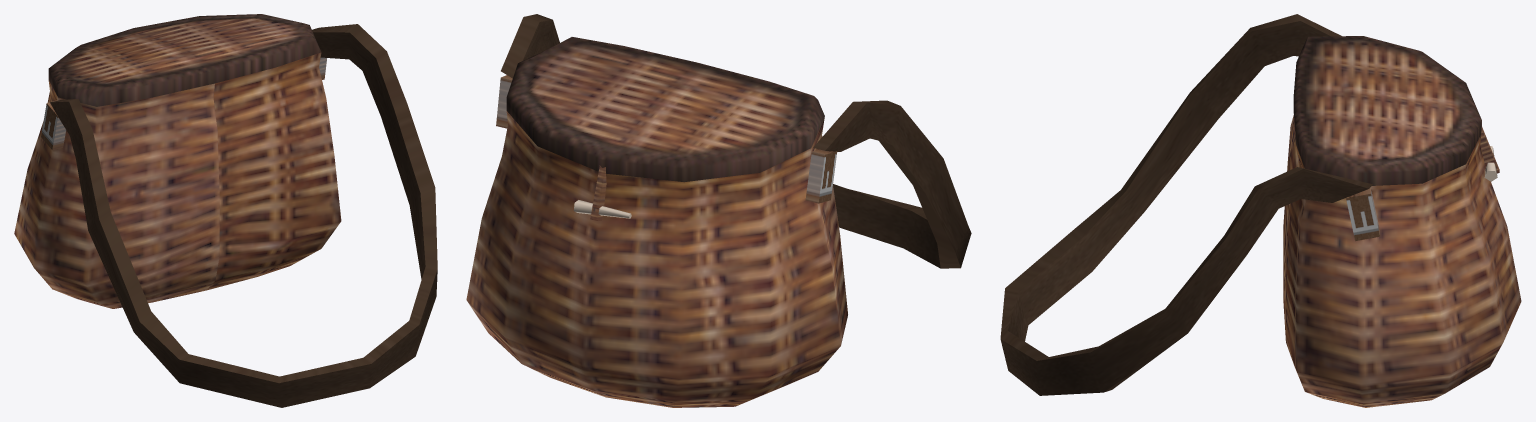
The model's file is M_FishingBasket_Ground.fbx.
The picture shows the model from 3 angles, left to right: view 1: azimuth 30°, elevation 25°; view 2: azimuth 150°, elevation 25°; view 3: azimuth 270°, elevation 25°; orthographic projection. The views are drawn at different scales.
Visible parts, largest first — view 1: M_FishingBasket_Ground; view 2: M_FishingBasket_Ground; view 3: M_FishingBasket_Ground.
Part boxes in pixels (left/top/right/bottom): M_FishingBasket_Ground: left=14, top=14, right=437, bottom=407; M_FishingBasket_Ground: left=466, top=14, right=971, bottom=407; M_FishingBasket_Ground: left=1000, top=14, right=1521, bottom=407.
Bounding box in the file's own units: 1.54 × 1.08 × 1.91.
